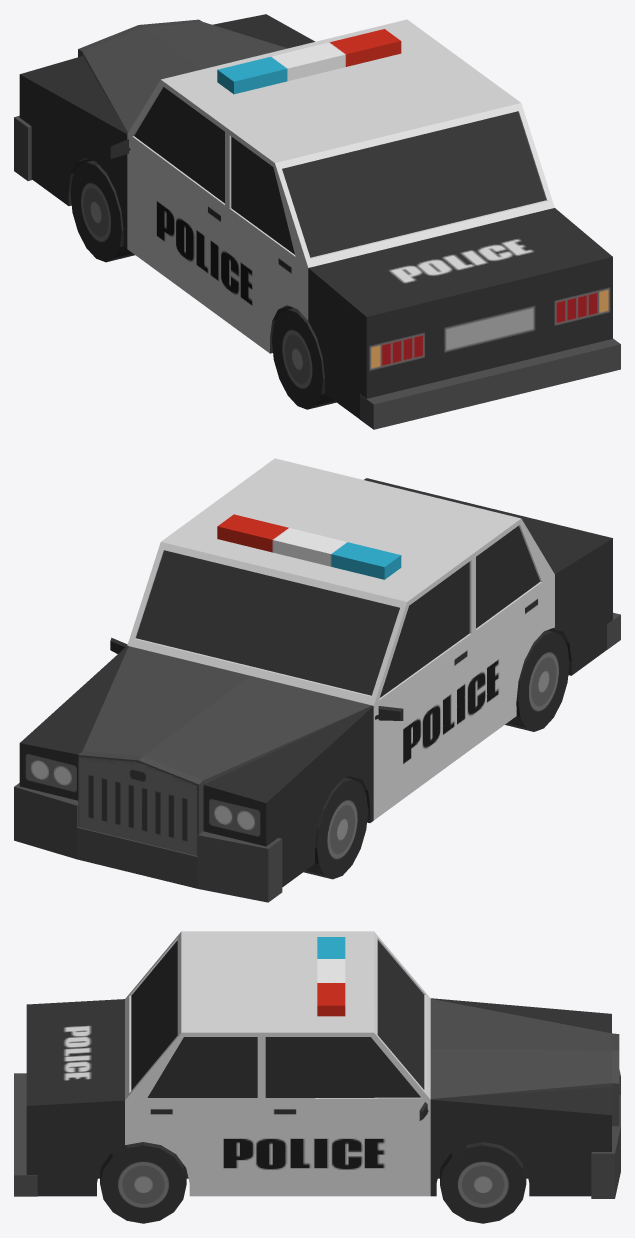
Rendered from police_car.gltf.
3 renders of one model, top to bottom at view 1: azimuth 30°, elevation 25°; view 2: azimuth 150°, elevation 25°; view 3: azimuth 270°, elevation 25°, orthographic. The views are drawn at different scales.
Visible parts, largest first — view 1: police_car; view 2: police_car; view 3: police_car.
Boxes of the visible parts, left/top/right/bottom form: police_car: left=14, top=14, right=620, bottom=429; police_car: left=14, top=458, right=620, bottom=902; police_car: left=14, top=931, right=620, bottom=1223.
Size of the model in its own units: 2.96 by 2.32 by 6.32.
Materials: 1 (1 with a texture image).
